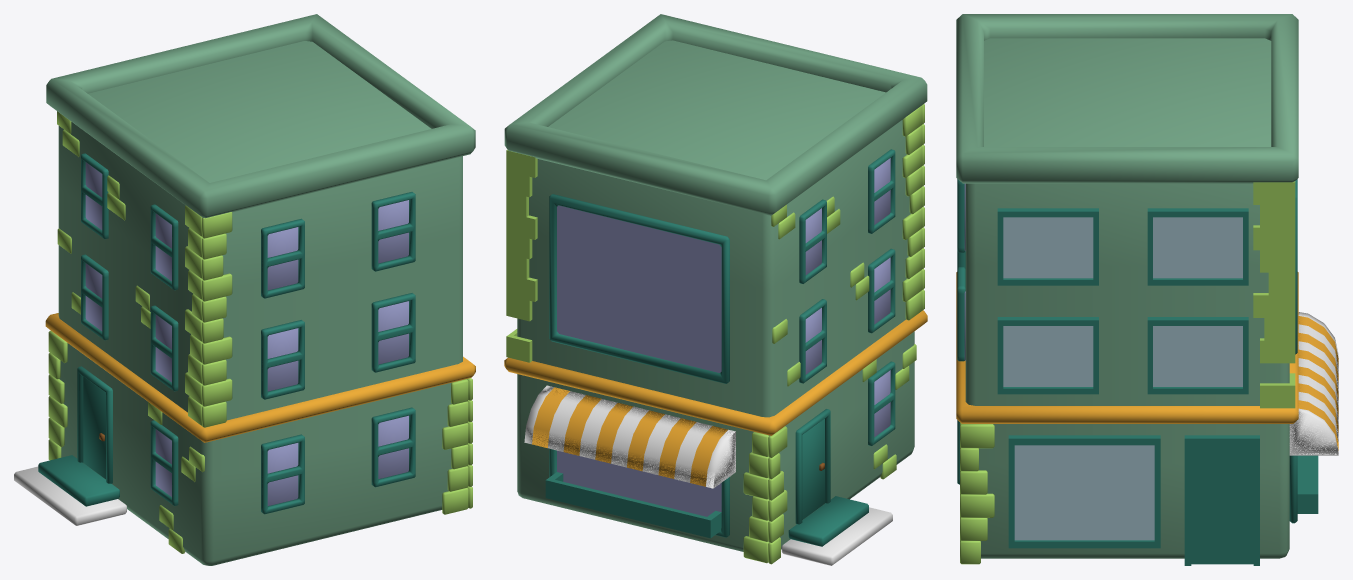
The model's file is Building_1.fbx.
3 views of the same model, side by side, from view 1: azimuth 30°, elevation 25°; view 2: azimuth 150°, elevation 25°; view 3: azimuth 270°, elevation 25° (orthographic). The views are drawn at different scales.
Parts seen in each view (by area): view 1: Plane.100; view 2: Plane.100; view 3: Plane.100.
Part boxes in pixels (<box>): Plane.100: <box>14,14,475,565</box>; Plane.100: <box>504,14,927,565</box>; Plane.100: <box>956,14,1338,565</box>.
Bounding box in the file's own units: 996 × 1134 × 956.
